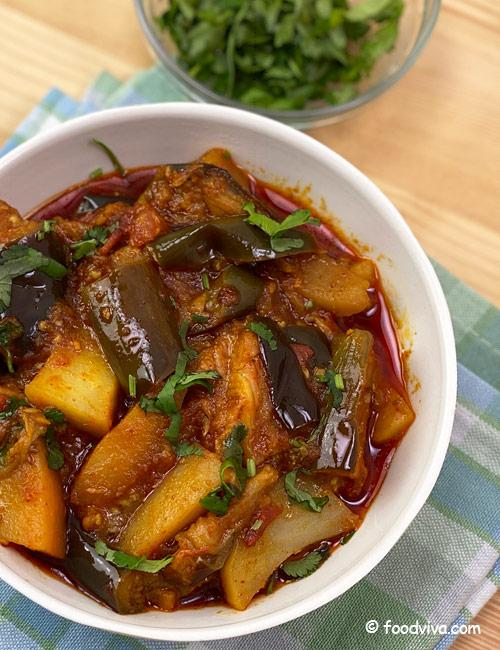aloo sabji: (16, 182, 352, 598)
